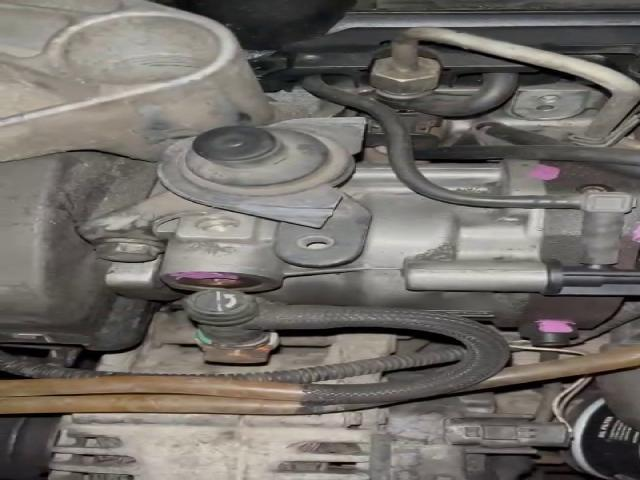alternator: (42, 390, 574, 480)
high_pressure_pump: (103, 152, 640, 345)
